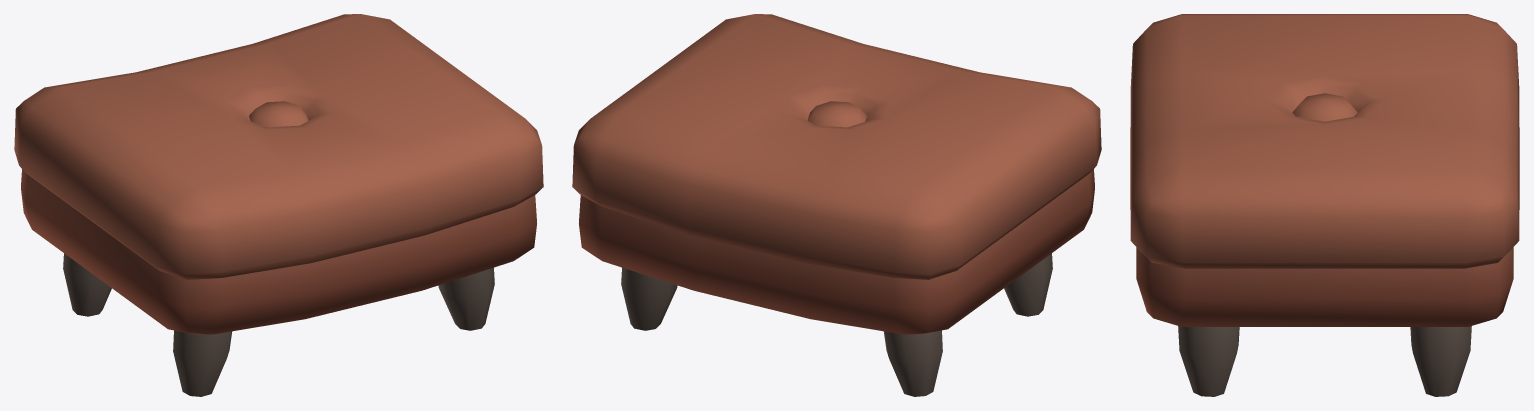
The model's file is footstool_brown.obj.
3 views of the same model, side by side, from view 1: azimuth 30°, elevation 25°; view 2: azimuth 150°, elevation 25°; view 3: azimuth 270°, elevation 25° (orthographic). The views are drawn at different scales.
Parts seen in each view (by area): view 1: footstool_brown; view 2: footstool_brown; view 3: footstool_brown.
Part boxes in pixels (x1,y1,x2,y2): footstool_brown: [14, 14, 543, 396]; footstool_brown: [572, 14, 1101, 396]; footstool_brown: [1130, 14, 1519, 396].
Size of the model in its own units: 0.8249 by 0.4445 by 0.688.
Materials: 1 (1 with a texture image).
